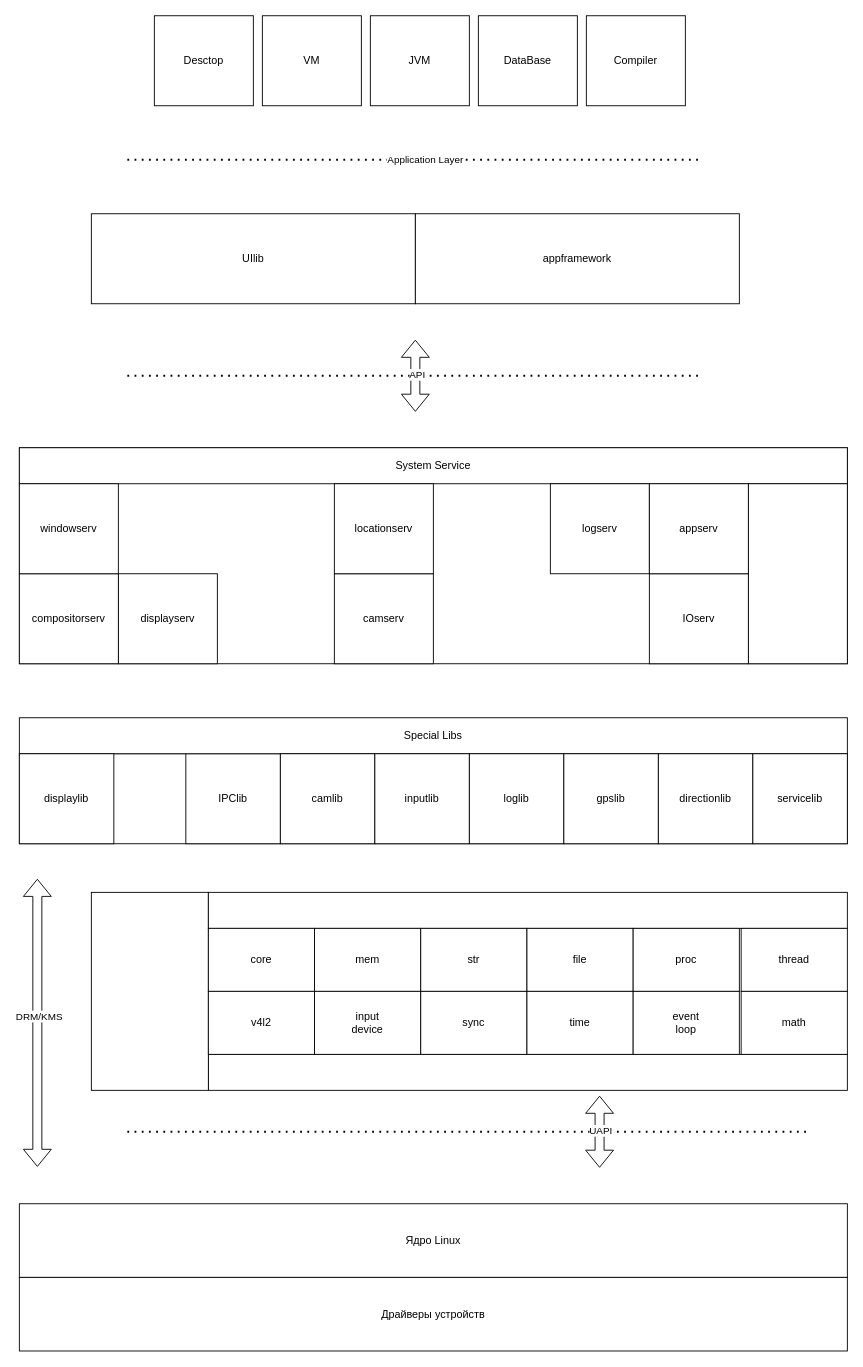
Image size: 863x1367. Some labels were removed from this diagram. The shapes that lost their labels are listed below. From the top down, each one's box as (x1, y1, x2, y2) in pixels, then its label:
(747, 483, 847, 664): initserv
(207, 891, 847, 928): System Libs
(90, 891, 208, 1090): CRT
(207, 1053, 847, 1090): Syscall Wrappers
